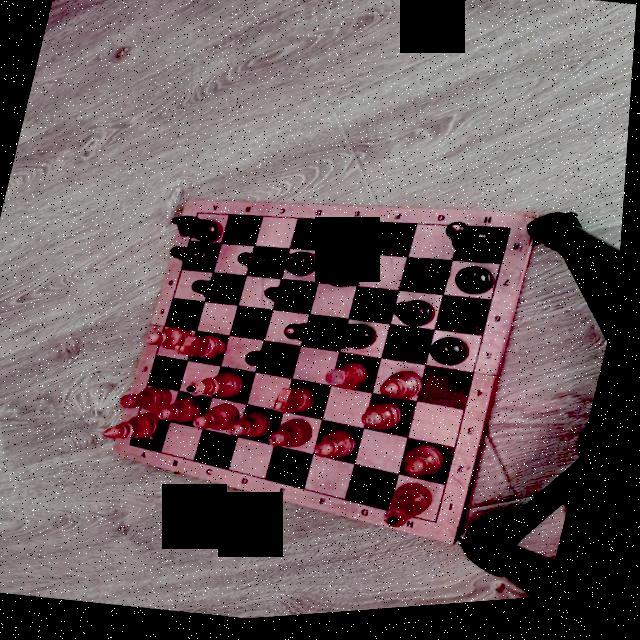chess-table-corners: (504, 230, 520, 242), (130, 442, 140, 451), (438, 524, 447, 534), (196, 212, 203, 219)
